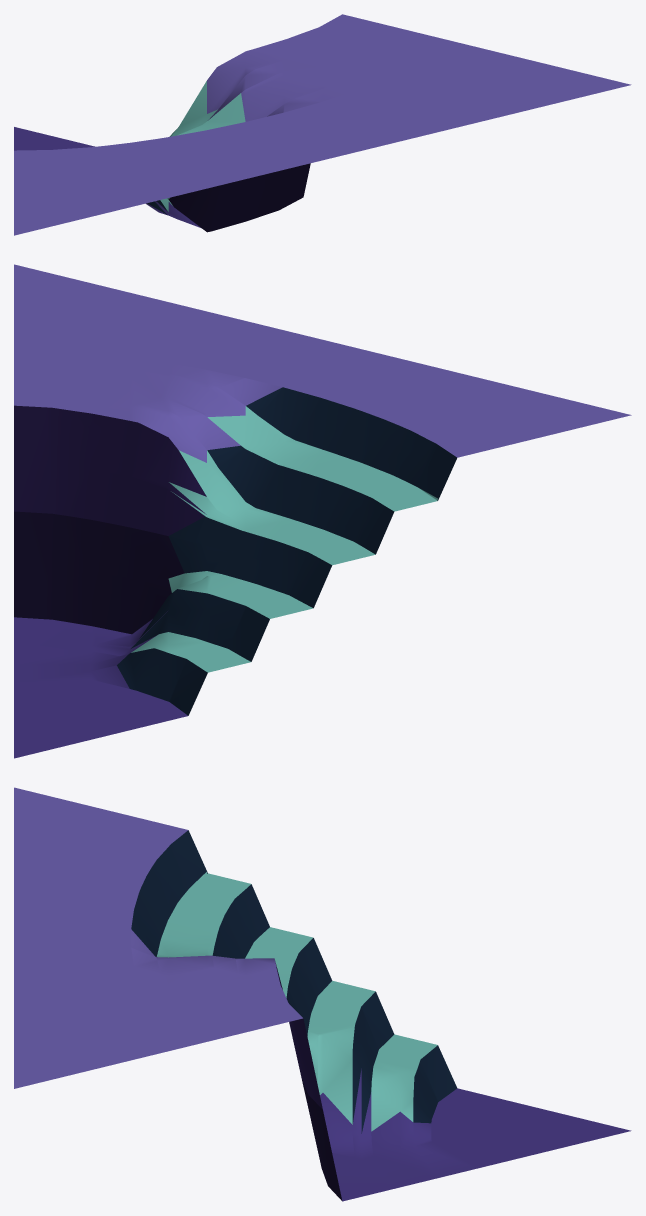
Rendered from MODULE_ALIEN_MIX_SIDE_B_2.fbx.
3 views of the same model, one above another, from view 1: azimuth 30°, elevation 25°; view 2: azimuth 150°, elevation 25°; view 3: azimuth 270°, elevation 25° (orthographic).
Visible parts, largest first — view 1: MODULE_ALIEN_MIX_SIDE_B_2__export; view 2: MODULE_ALIEN_MIX_SIDE_B_2__export; view 3: MODULE_ALIEN_MIX_SIDE_B_2__export.
Boxes of the visible parts, x1,y1,x2,y2 form: MODULE_ALIEN_MIX_SIDE_B_2__export: (14, 14, 631, 235); MODULE_ALIEN_MIX_SIDE_B_2__export: (14, 264, 631, 758); MODULE_ALIEN_MIX_SIDE_B_2__export: (14, 787, 631, 1201).
Size of the model in its own units: 100 by 29.78 by 86.6.
